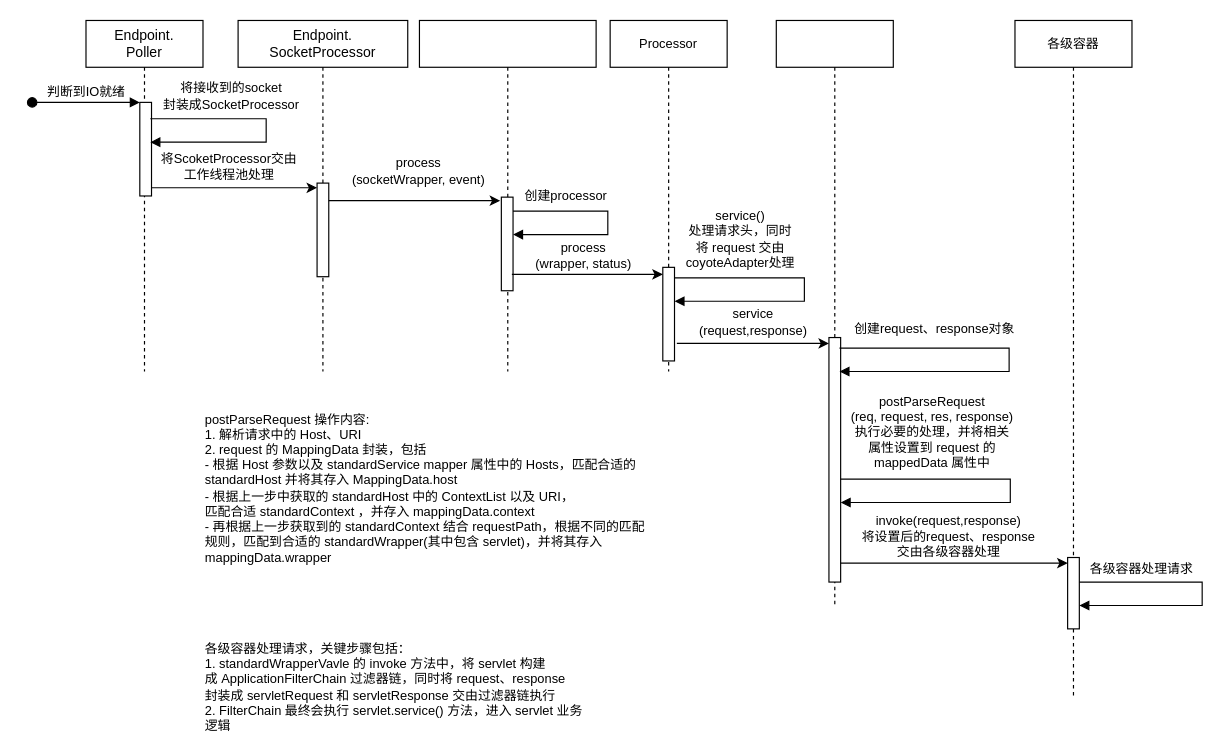
Some shapes in this 1232 by 755 pixel diagram are drawn without their labels. The centre of each missing label's shape, as x and y in pixels:
ConnectionHandler: the point at 507,195
coyoteAdapter: the point at 834,312
